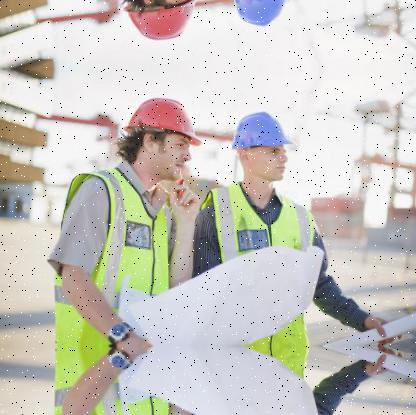helmet: (118, 86, 203, 182), (222, 102, 301, 192), (118, 0, 204, 51), (222, 0, 302, 35)
